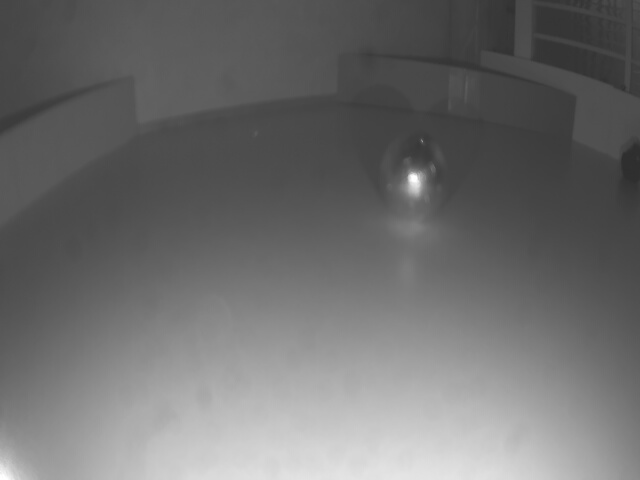Green: (337, 53, 573, 143)
Red: (0, 80, 133, 225)
